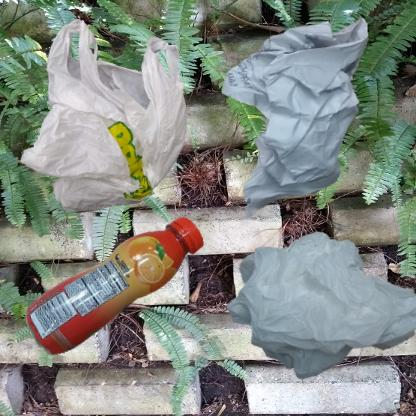bolsa: (10, 10, 222, 252), (213, 213, 416, 416)
botella: (10, 213, 256, 381)
papel: (213, 10, 394, 226)
